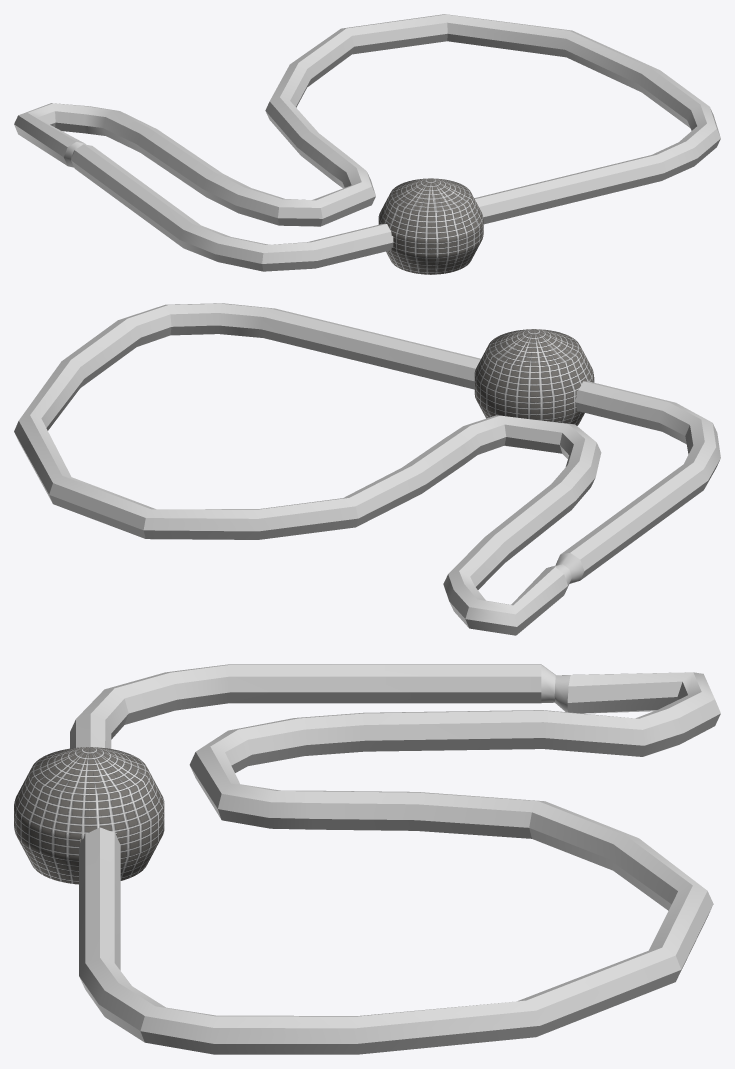
The model's file is Tunnel.fbx.
The picture shows the model from 3 angles, top to bottom: view 1: azimuth 30°, elevation 25°; view 2: azimuth 150°, elevation 25°; view 3: azimuth 270°, elevation 25°; orthographic projection. The views are drawn at different scales.
Parts seen in each view (by area): view 1: pPipe3, pSphere1; view 2: pPipe3, pSphere1; view 3: pPipe3, pSphere1.
Part boxes in pixels (<box>): pPipe3: <box>14,14,720,271</box>; pSphere1: <box>378,178,483,274</box>; pPipe3: <box>14,303,720,635</box>; pSphere1: <box>474,329,594,425</box>; pPipe3: <box>70,664,720,1054</box>; pSphere1: <box>14,747,164,884</box>.
Bounding box in the file's own units: 421 × 73.51 × 341.
